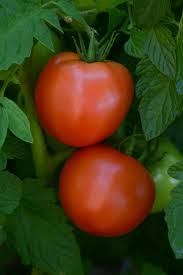tomato: (57, 148, 154, 233), (42, 63, 132, 142)
